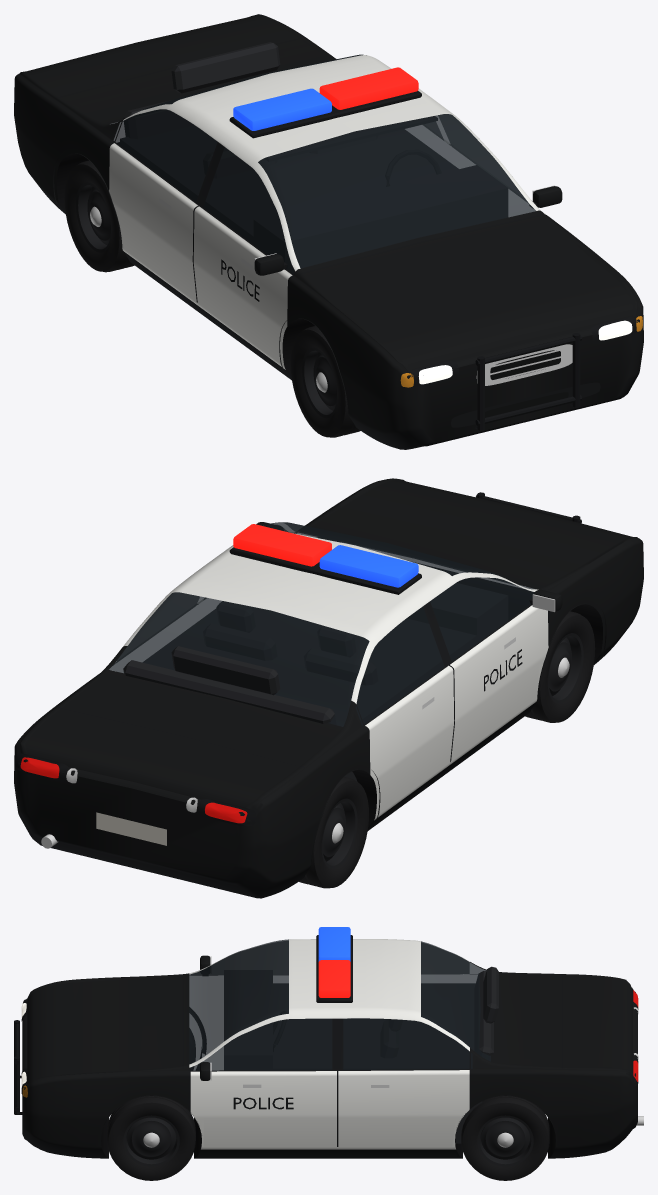
Rendered from car_police.glb.
3 renders of one model, top to bottom at view 1: azimuth 30°, elevation 25°; view 2: azimuth 150°, elevation 25°; view 3: azimuth 270°, elevation 25°, orthographic. The views are drawn at different scales.
Parts seen in each view (by area): view 1: body, glass, interior, wheel_fr, wheel_rr, lights_head; view 2: body, glass, interior, wheel_rr, wheel_fr, lights_tail; view 3: body, glass, interior, wheel_fl, wheel_rl.
Boxes of the visible parts, x1,y1,x2,y2 form: body: (14, 14, 643, 449); glass: (110, 54, 540, 273); interior: (120, 42, 507, 273); wheel_fr: (290, 326, 360, 437); wheel_rr: (64, 160, 134, 272); lights_head: (400, 316, 642, 387); body: (14, 478, 643, 898); glass: (109, 522, 535, 726); interior: (123, 583, 507, 824); wheel_rr: (299, 777, 368, 888); wheel_fr: (525, 611, 595, 722); lights_tail: (15, 753, 255, 826); body: (14, 927, 643, 1158); glass: (189, 939, 490, 1070); interior: (224, 966, 498, 1143); wheel_fl: (107, 1096, 195, 1180); wheel_rl: (461, 1096, 549, 1180).
Size of what is drawn, in the model's own units: 2.23 by 1.58 by 5.12.
